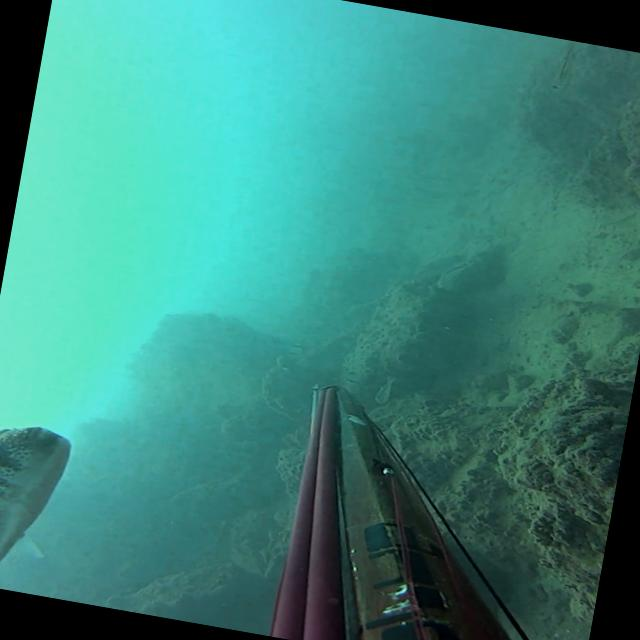Balon Baligi: (0, 413, 76, 596), (548, 38, 580, 92), (374, 374, 396, 404)
